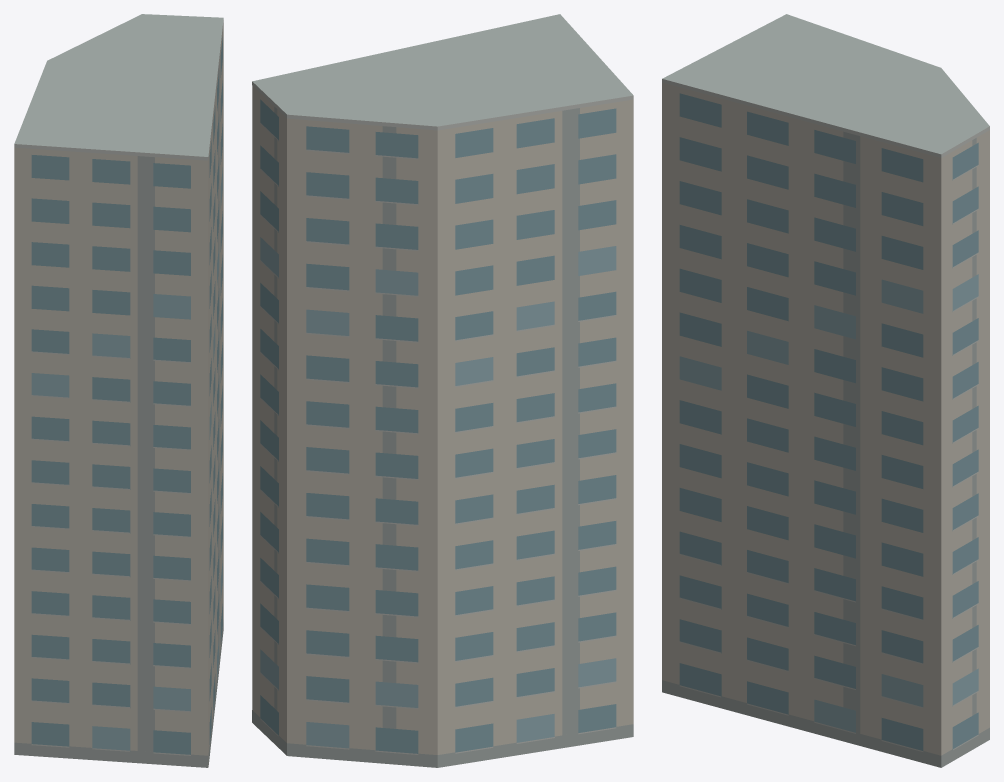
Rendered from residential-f9e11ecf-0aff-4118-9e6f-37115822e117.glb.
The picture shows the model from 3 angles, left to right: view 1: azimuth 30°, elevation 25°; view 2: azimuth 150°, elevation 25°; view 3: azimuth 270°, elevation 25°; orthographic projection. The views are drawn at different scales.
Visible parts, largest first — view 1: residential-f9e11ecf-0aff-4118-9e6f-37115822e117.tmp; view 2: residential-f9e11ecf-0aff-4118-9e6f-37115822e117.tmp; view 3: residential-f9e11ecf-0aff-4118-9e6f-37115822e117.tmp.
Boxes of the visible parts, x1,y1,x2,y2 form: residential-f9e11ecf-0aff-4118-9e6f-37115822e117.tmp: [14, 14, 223, 767]; residential-f9e11ecf-0aff-4118-9e6f-37115822e117.tmp: [252, 14, 633, 767]; residential-f9e11ecf-0aff-4118-9e6f-37115822e117.tmp: [662, 14, 989, 767].
Bounding box in the file's own units: 19.64 × 40 × 19.38.
